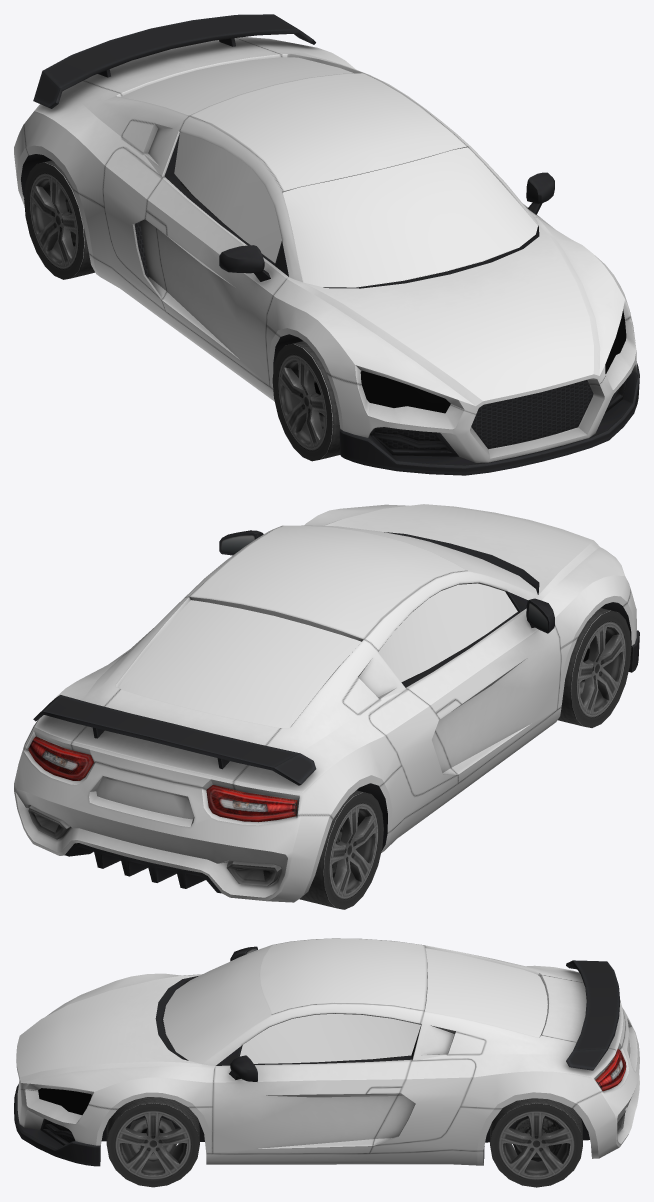
3 views of the same model, one above another, from view 1: azimuth 30°, elevation 25°; view 2: azimuth 150°, elevation 25°; view 3: azimuth 270°, elevation 25° (orthographic). The views are drawn at different scales.
Visible parts, largest first — view 1: Body_1, Glass_1, Matte_1, Wheel_R, Wheel_Back_R, Glass_light; view 2: Body_1, Glass_1, Matte_1, Wheel_R, Wheel_Back_R, Taillights_1; view 3: Body_1, Glass_1, Matte_1, Wheel_L, Wheel_Back_L, Glass_light, Taillights_1, break_L.
Boxes of the visible parts, box(x1,y1,x2,y2) form: Body_1: box(14, 37, 636, 462); Glass_1: box(121, 57, 537, 287); Matte_1: box(21, 14, 639, 475); Wheel_R: box(272, 341, 340, 461); Wheel_Back_R: box(24, 160, 94, 279); Glass_light: box(360, 309, 626, 413); Body_1: box(14, 504, 636, 902); Glass_1: box(119, 525, 537, 728); Matte_1: box(28, 530, 639, 893); Wheel_R: box(558, 608, 631, 727); Wheel_Back_R: box(299, 790, 383, 909); Taillights_1: box(28, 736, 297, 821); Body_1: box(16, 938, 639, 1165); Glass_1: box(163, 946, 547, 1063); Matte_1: box(14, 946, 625, 1166); Wheel_L: box(106, 1097, 199, 1187); Wheel_Back_L: box(490, 1098, 582, 1187); Glass_light: box(38, 1088, 91, 1114); Taillights_1: box(595, 1049, 626, 1090); break_L: box(128, 1117, 176, 1161).
Bounding box in the file's own units: 208 × 130 × 443.
